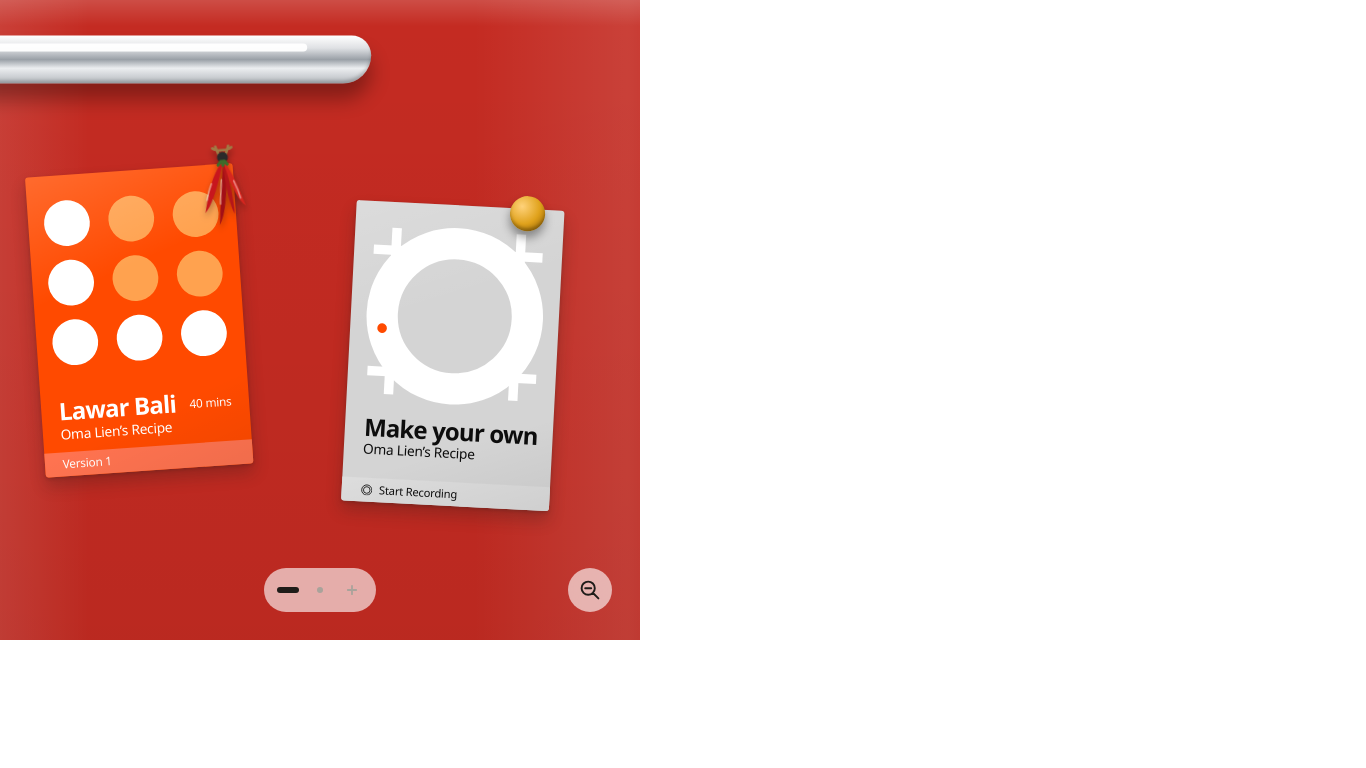
Test: FridgeScreen › the dashed fridge adds a NEW BOOK fridge with only Make your own
Click the button named "New fridge": (352,590) [336,568,368,612]
Wait 3000 ms
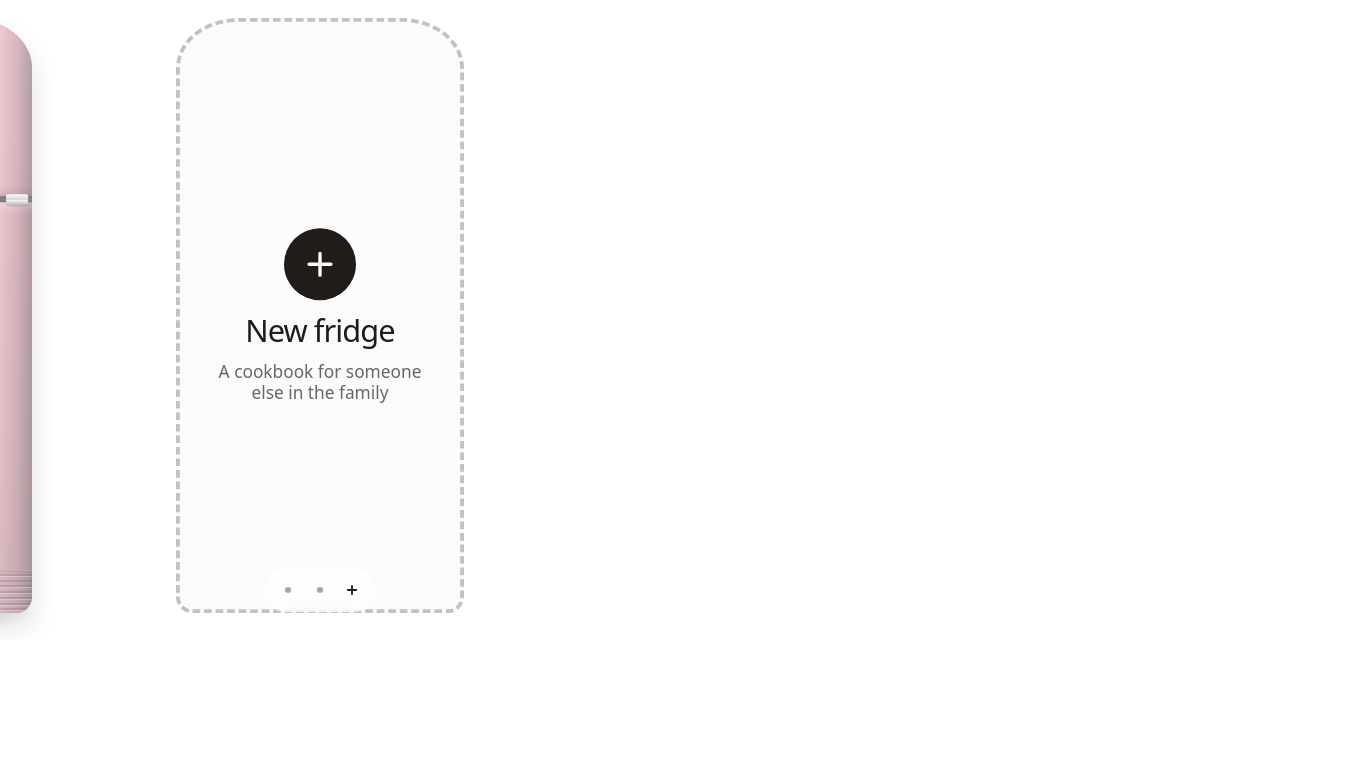
Click the button with aria-label "Build a new fridge for another cookbook": (320,316) [176,18,464,613]
Wait 1200 ms
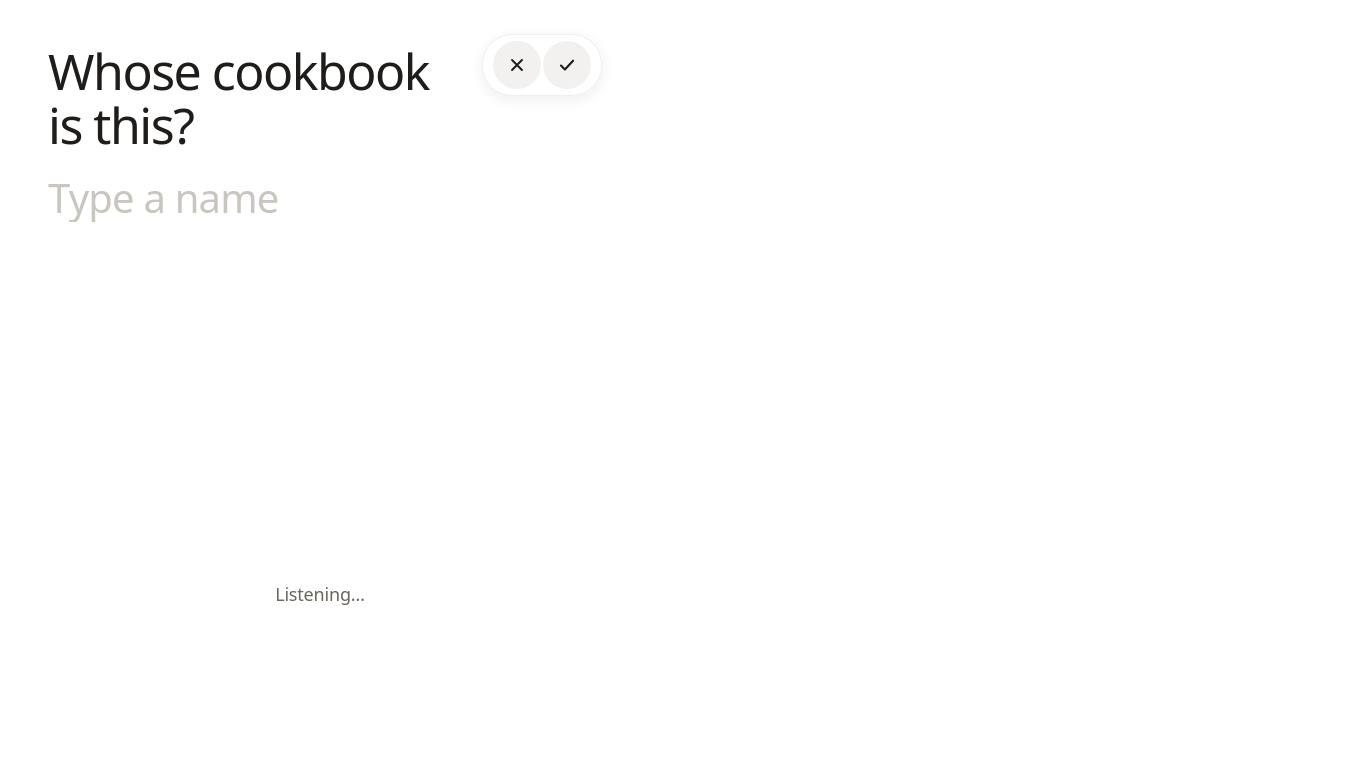
Expected: the number of buttons "Make your own recipe" is 3
